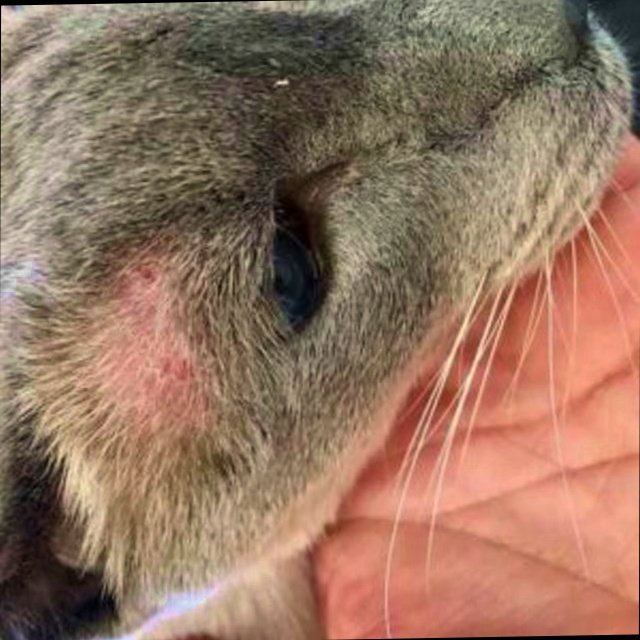ringworm: (94, 270, 183, 411)
